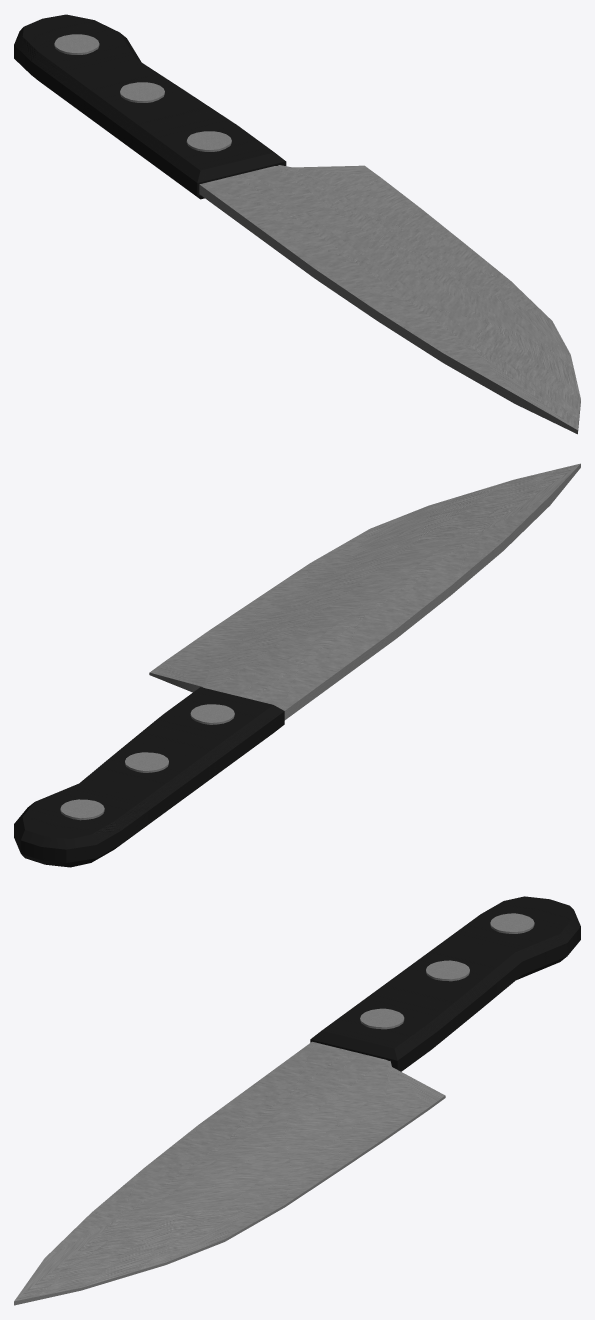
File: Kitchen knife.FBX
The picture shows the model from 3 angles, top to bottom: view 1: azimuth 30°, elevation 25°; view 2: azimuth 150°, elevation 25°; view 3: azimuth 330°, elevation 25°; orthographic projection.
Parts seen in each view (by area): view 1: Kitchen knife; view 2: Kitchen knife; view 3: Kitchen knife.
Part boxes in pixels (left/top/right/bottom): Kitchen knife: left=14, top=14, right=580, bottom=434; Kitchen knife: left=14, top=463, right=580, bottom=867; Kitchen knife: left=14, top=896, right=580, bottom=1305.
Bounding box in the file's own units: 5.55 × 1.15 × 34.34.
Materials: 2 (2 with a texture image).
